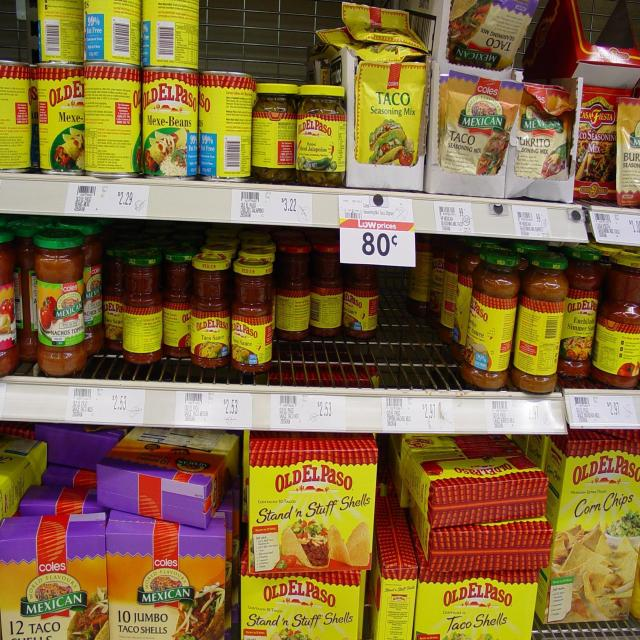void: (383, 273, 450, 382), (202, 2, 311, 66), (284, 338, 382, 380)
